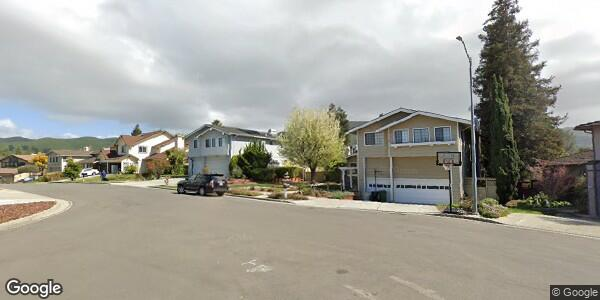Steel_Pole: (452, 34, 481, 217)
